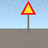sign: (20, 1, 36, 33)
